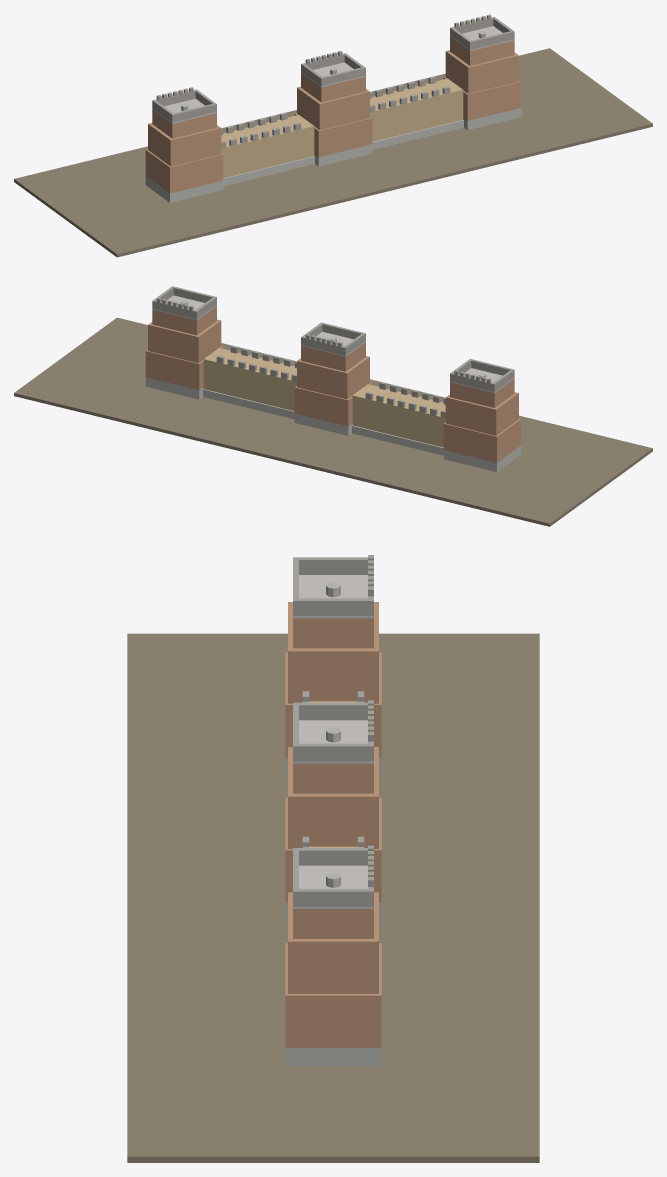
Rendered from 一截长城.glb.
3 renders of one model, top to bottom at view 1: azimuth 30°, elevation 25°; view 2: azimuth 150°, elevation 25°; view 3: azimuth 270°, elevation 25°, orthographic. The views are drawn at different scales.
Visible parts, largest first — view 1: 地面, 墙段_0_墙身, 墙段_1_墙身, 烽火台_1_层1, 烽火台_1_层2, 烽火台_3_层2, 烽火台_2_层2, 烽火台_2_层1, 烽火台_3_层1, 烽火台_1_层3, 烽火台_2_层3, 烽火台_3_层3 (+11 smaller); view 2: 地面, 墙段_0_墙身, 墙段_1_墙身, 烽火台_1_层1, 烽火台_1_层2, 烽火台_3_层2, 烽火台_2_层2, 烽火台_2_层1, 烽火台_3_层1, 烽火台_2_层3, 烽火台_1_层3, 烽火台_3_层3 (+11 smaller); view 3: 地面, 烽火台_3_层1, 烽火台_3_层2, 烽火台_1_层2, 烽火台_2_层2, 烽火台_1_层3, 烽火台_2_层3, 烽火台_3_层3, 烽火台_3_层0, 烽火台_1_台顶面, 烽火台_3_台顶面, 烽火台_2_台顶面 (+8 smaller).
Boxes of the visible parts, box(x1,y1,x2,y2) form: 地面: box(14, 48, 652, 257); 墙段_0_墙身: box(221, 115, 314, 177); 墙段_1_墙身: box(370, 78, 463, 141); 烽火台_1_层1: box(145, 149, 223, 193); 烽火台_1_层2: box(148, 123, 221, 166); 烽火台_3_层2: box(445, 50, 518, 93); 烽火台_2_层2: box(297, 86, 369, 130); 烽火台_2_层1: box(294, 113, 372, 156); 烽火台_3_层1: box(443, 76, 521, 120); 烽火台_1_层3: box(152, 109, 216, 138); 烽火台_2_层3: box(301, 73, 365, 102); 烽火台_3_层3: box(450, 36, 514, 65); 地面: box(14, 317, 652, 526); 墙段_0_墙身: box(352, 384, 445, 447); 墙段_1_墙身: box(203, 348, 296, 410); 烽火台_1_层1: box(443, 418, 521, 462); 烽火台_1_层2: box(445, 392, 518, 435); 烽火台_3_层2: box(148, 319, 221, 363); 烽火台_2_层2: box(297, 356, 369, 399); 烽火台_2_层1: box(294, 382, 372, 426); 烽火台_3_层1: box(145, 346, 223, 390); 烽火台_2_层3: box(301, 342, 365, 371); 烽火台_1_层3: box(450, 379, 514, 407); 烽火台_3_层3: box(152, 306, 216, 335); 地面: box(127, 633, 539, 1162); 烽火台_3_层1: box(285, 943, 381, 1047); 烽火台_3_层2: box(288, 892, 378, 993); 烽火台_1_层2: box(288, 602, 378, 703); 烽火台_2_层2: box(288, 747, 378, 848); 烽火台_1_层3: box(293, 618, 373, 648); 烽火台_2_层3: box(293, 763, 373, 793); 烽火台_3_层3: box(293, 909, 373, 938); 烽火台_3_层0: box(285, 1048, 381, 1066); 烽火台_1_台顶面: box(293, 575, 373, 618); 烽火台_3_台顶面: box(293, 865, 373, 908); 烽火台_2_台顶面: box(293, 720, 373, 763).
Size of the model in its own units: 90 by 14.75 by 30.
